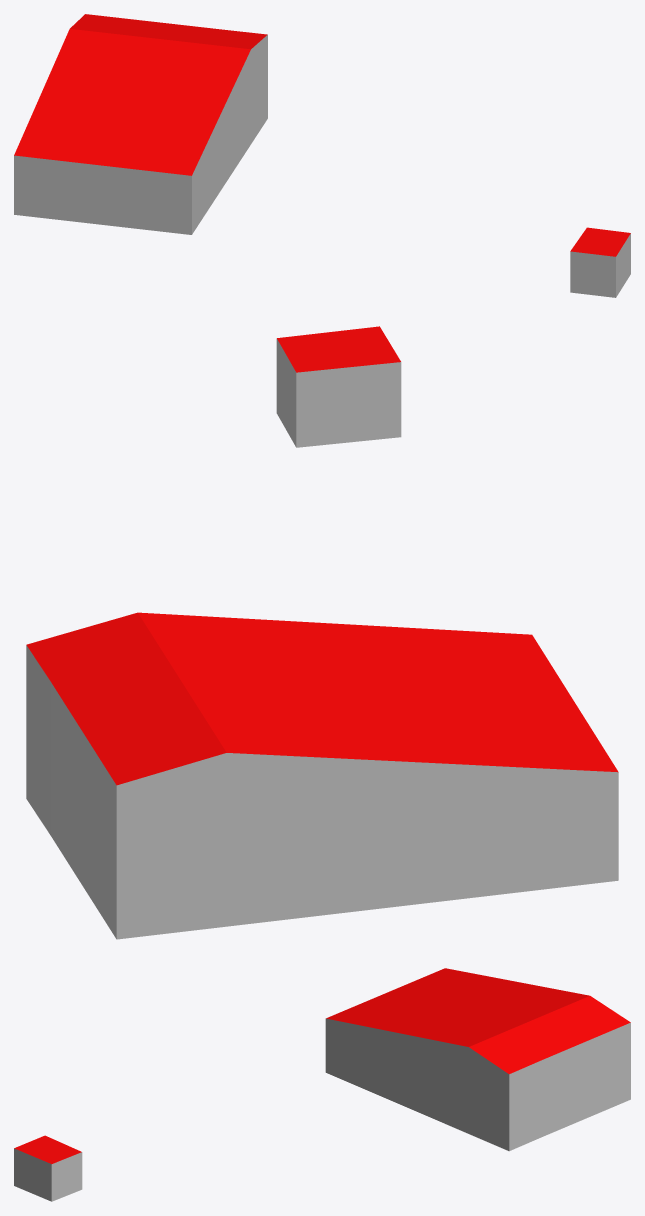
The picture shows the model from 3 angles, top to bottom: view 1: azimuth 30°, elevation 25°; view 2: azimuth 150°, elevation 25°; view 3: azimuth 270°, elevation 25°; orthographic projection. The views are drawn at different scales.
Bounding box in the file's own units: 30.71 × 6.94 × 44.63.
